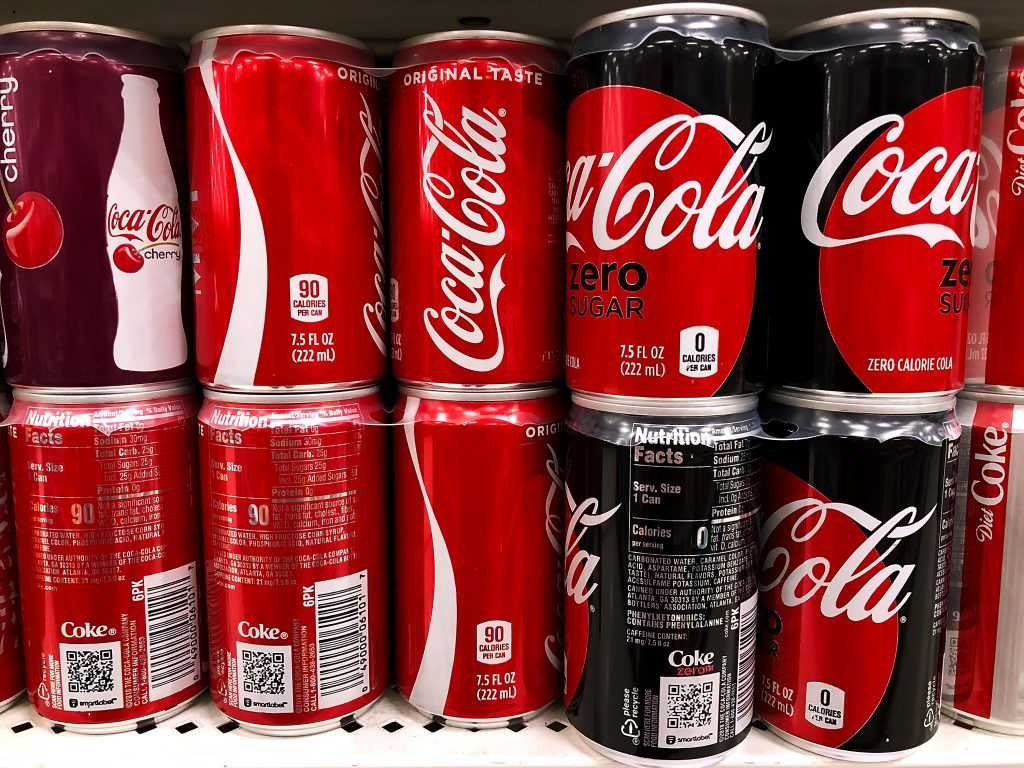Coca-Cola: (174, 33, 376, 388)
Copy of Coca-Cola: (375, 23, 577, 378)
Copy of Copy of Coca-Cola: (577, 25, 779, 380)
Copy of Copy of Copy of Coca-Cola: (384, 383, 586, 738)
Copy of Copy of Copy of Copy of Coca-Cola: (6, 363, 208, 718), (568, 385, 770, 740)
Copy of Copy of Copy of Copy of Copy of Coca-Cola: (195, 382, 398, 737), (762, 377, 965, 732)
Copy of Copy of Copy of Copy of Copy of Copy of Coca-Cola: (799, 21, 1001, 376)
Copy of Copy of Copy of Copy of Copy of Copy of Copy of Coca-Cola: (1, 8, 202, 363)
